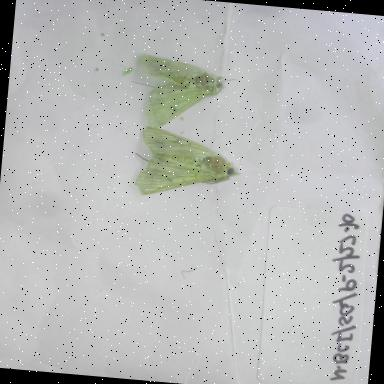abw: (116, 44, 246, 140), (122, 126, 249, 208)
